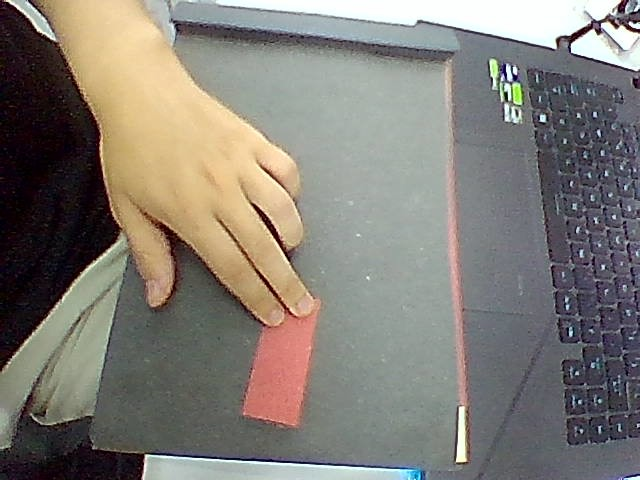card: (242, 301, 319, 428)
